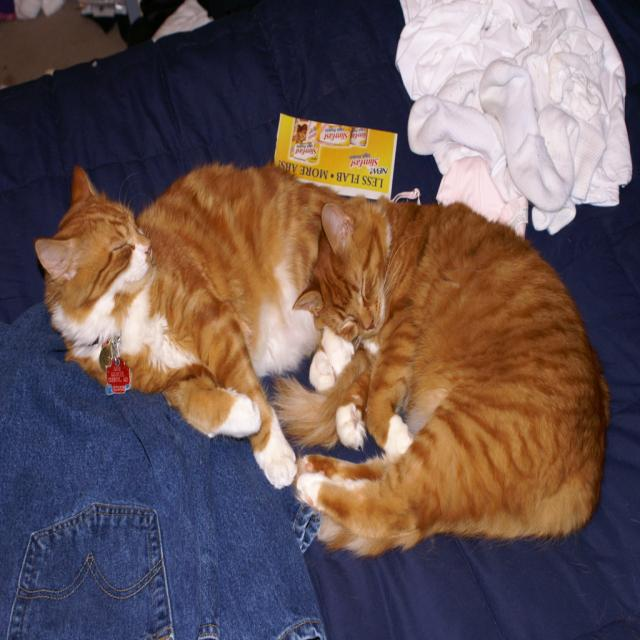Cat: (293, 191, 612, 554), (33, 162, 373, 488)
